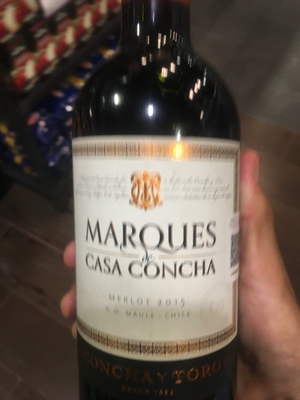marques de casa concha merlot: (61, 25, 241, 360)
